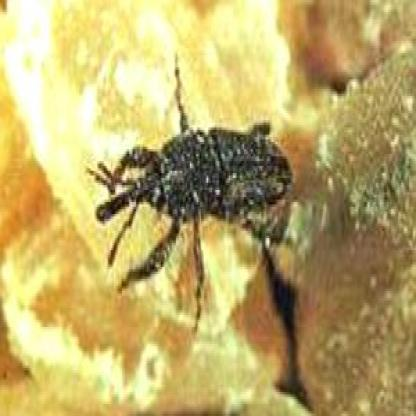rice-bug: (100, 91, 290, 292)
